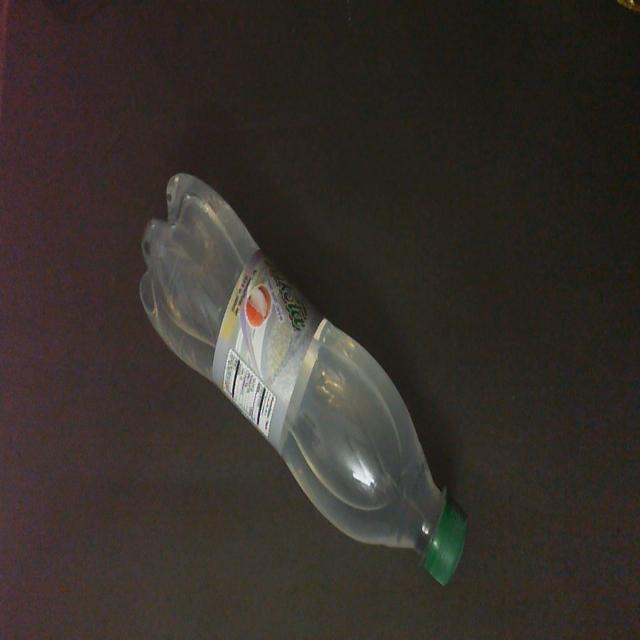non-defect: (137, 168, 471, 594)
